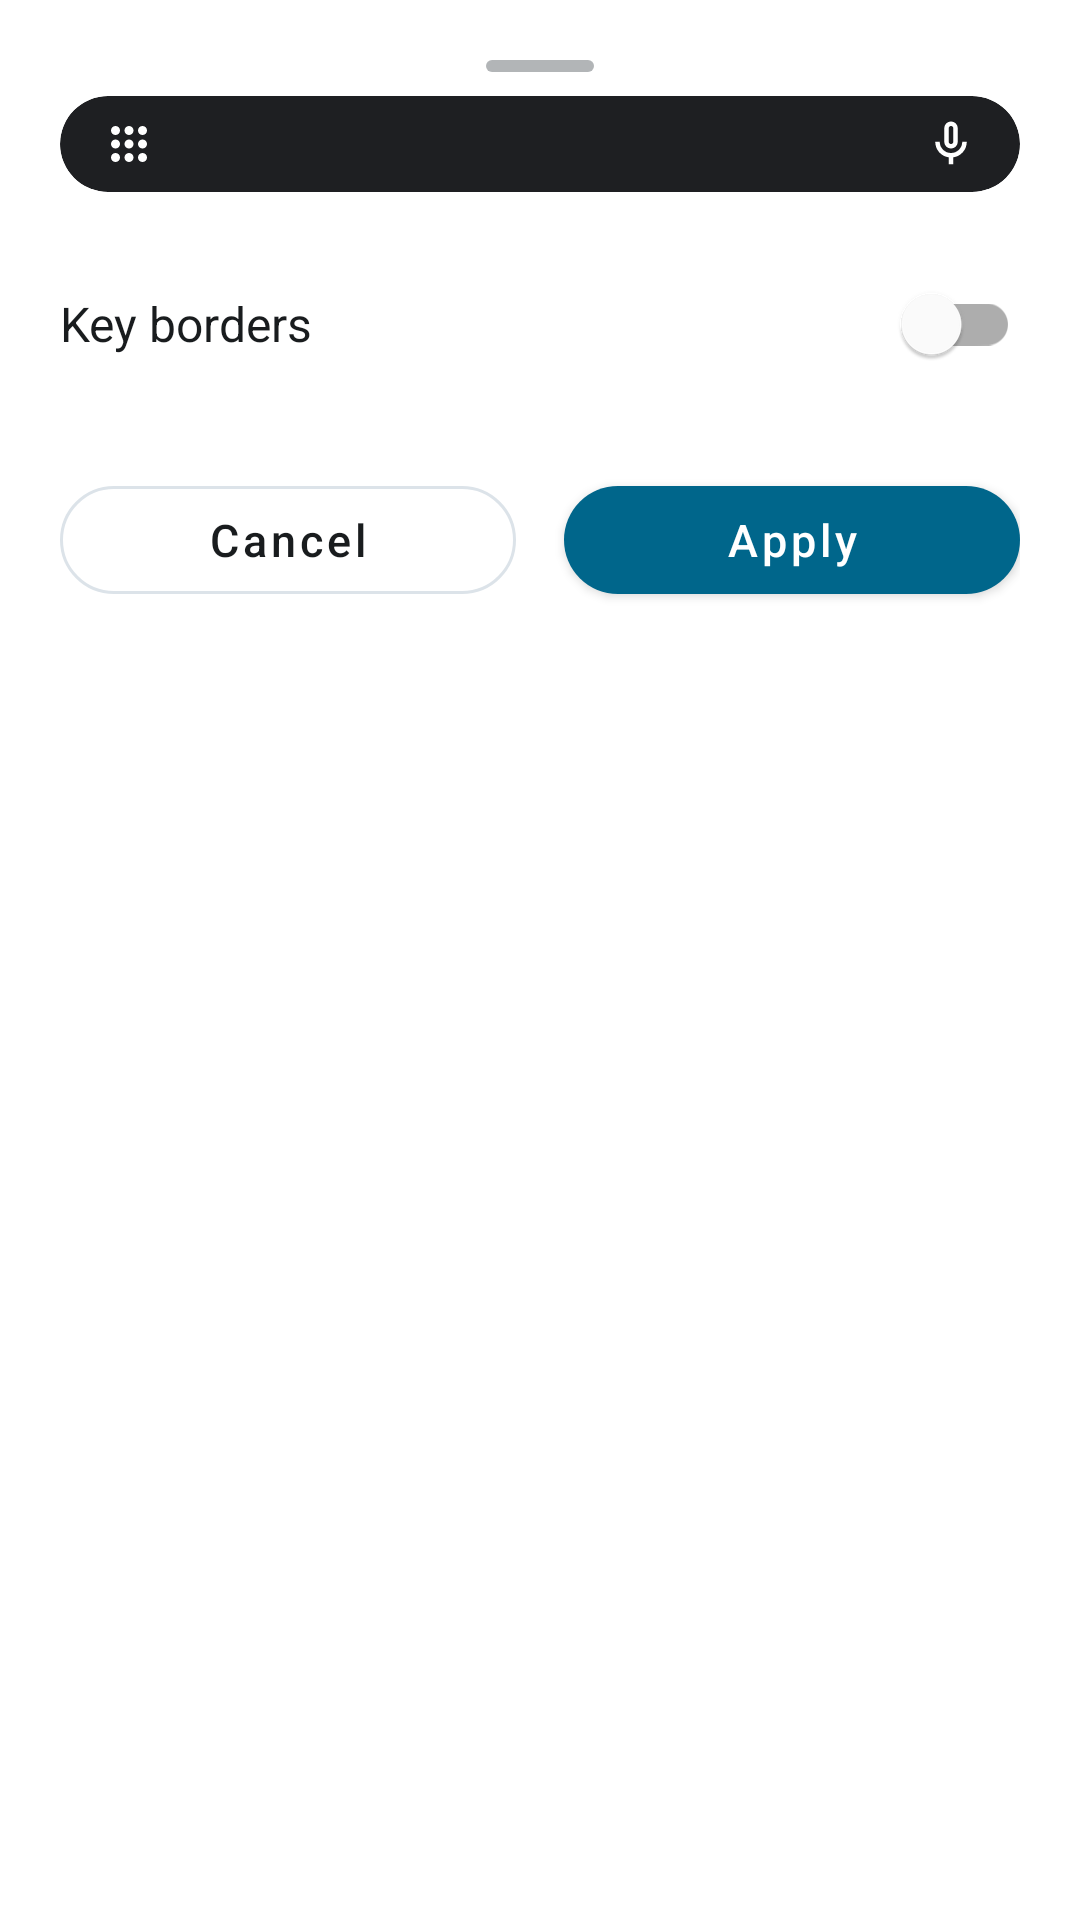

Point at icon controls on the screen. Image size 1080 x 1920, points as [x,y].
grid menu: [129,144]
mic: [951,143]
